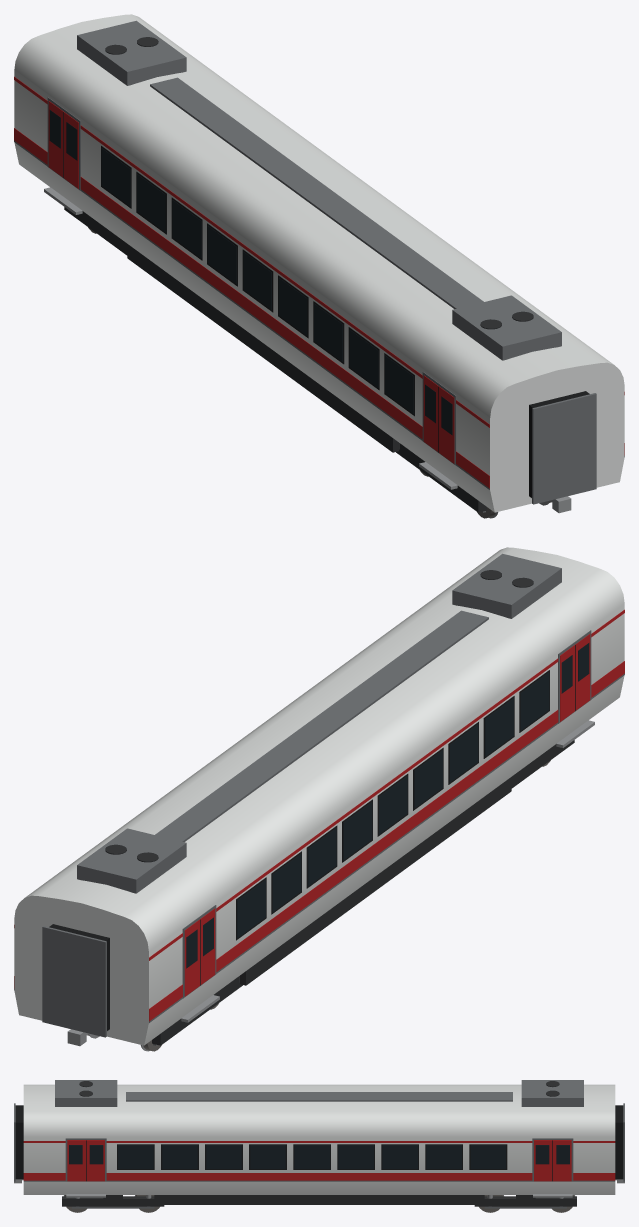
File: RS_EMU_Trailer.fbx
3 views of the same model, one above another, from view 1: azimuth 30°, elevation 25°; view 2: azimuth 150°, elevation 25°; view 3: azimuth 270°, elevation 25° (orthographic). The views are drawn at different scales.
Visible parts, largest first — view 1: EMU_Trailer_Paint_White, EMU_Trailer_Paint_Grey, EMU_Trailer_Glass, EMU_Trailer_Paint_Red, EMU_Trailer_Underframe, EMU_Trailer_Rubber, EMU_Trailer_Steel; view 2: EMU_Trailer_Paint_White, EMU_Trailer_Paint_Grey, EMU_Trailer_Glass, EMU_Trailer_Paint_Red, EMU_Trailer_Underframe, EMU_Trailer_Rubber, EMU_Trailer_Steel; view 3: EMU_Trailer_Paint_White, EMU_Trailer_Paint_Grey, EMU_Trailer_Glass, EMU_Trailer_Paint_Red, EMU_Trailer_Underframe, EMU_Trailer_Rubber, EMU_Trailer_Steel, EMU_Trailer_Wheel.
Boxes of the visible parts, x1,y1,x2,y2 form: EMU_Trailer_Paint_White: (14,14,624,512); EMU_Trailer_Paint_Grey: (14,20,624,512); EMU_Trailer_Glass: (49,110,452,435); EMU_Trailer_Paint_Red: (14,76,624,488); EMU_Trailer_Underframe: (64,37,533,512); EMU_Trailer_Rubber: (63,112,589,497); EMU_Trailer_Steel: (44,187,571,518); EMU_Trailer_Paint_White: (14,547,624,1045); EMU_Trailer_Paint_Grey: (14,553,624,1045); EMU_Trailer_Glass: (186,643,589,968); EMU_Trailer_Paint_Red: (14,609,624,1021); EMU_Trailer_Underframe: (105,570,574,1045); EMU_Trailer_Rubber: (49,645,575,1030); EMU_Trailer_Steel: (67,720,594,1051); EMU_Trailer_Paint_White: (23,1084,615,1194); EMU_Trailer_Paint_Grey: (14,1080,624,1208); EMU_Trailer_Glass: (69,1145,569,1168); EMU_Trailer_Paint_Red: (23,1140,615,1181); EMU_Trailer_Underframe: (62,1081,576,1206); EMU_Trailer_Rubber: (15,1105,623,1181); EMU_Trailer_Steel: (14,1179,624,1206); EMU_Trailer_Wheel: (64,1195,574,1212).
Size of the model in its own units: 3.64 by 4.47 by 21.5.
